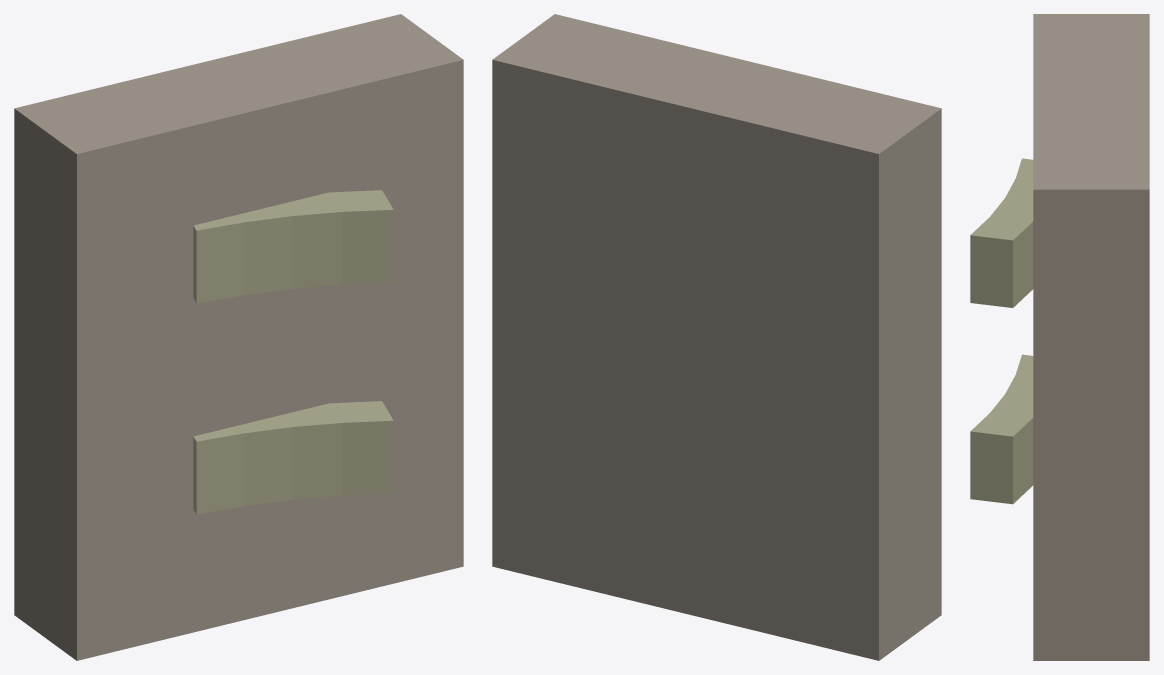
The model's file is Interruptor.fbx.
3 renders of one model, left to right at view 1: azimuth 30°, elevation 25°; view 2: azimuth 150°, elevation 25°; view 3: azimuth 270°, elevation 25°, orthographic. The views are drawn at different scales.
Visible parts, largest first — view 1: BaseInterruptor, TeclaInterruptor; view 2: BaseInterruptor; view 3: BaseInterruptor, TeclaInterruptor.
Boxes of the visible parts, x1=… form: BaseInterruptor: x1=14, y1=14, x2=463, y2=660; TeclaInterruptor: x1=193, y1=190, x2=393, y2=514; BaseInterruptor: x1=492, y1=14, x2=941, y2=660; BaseInterruptor: x1=1033, y1=14, x2=1149, y2=660; TeclaInterruptor: x1=970, y1=158, x2=1033, y2=504.
Size of the model in its own units: 51.65 by 64.67 by 22.31.
